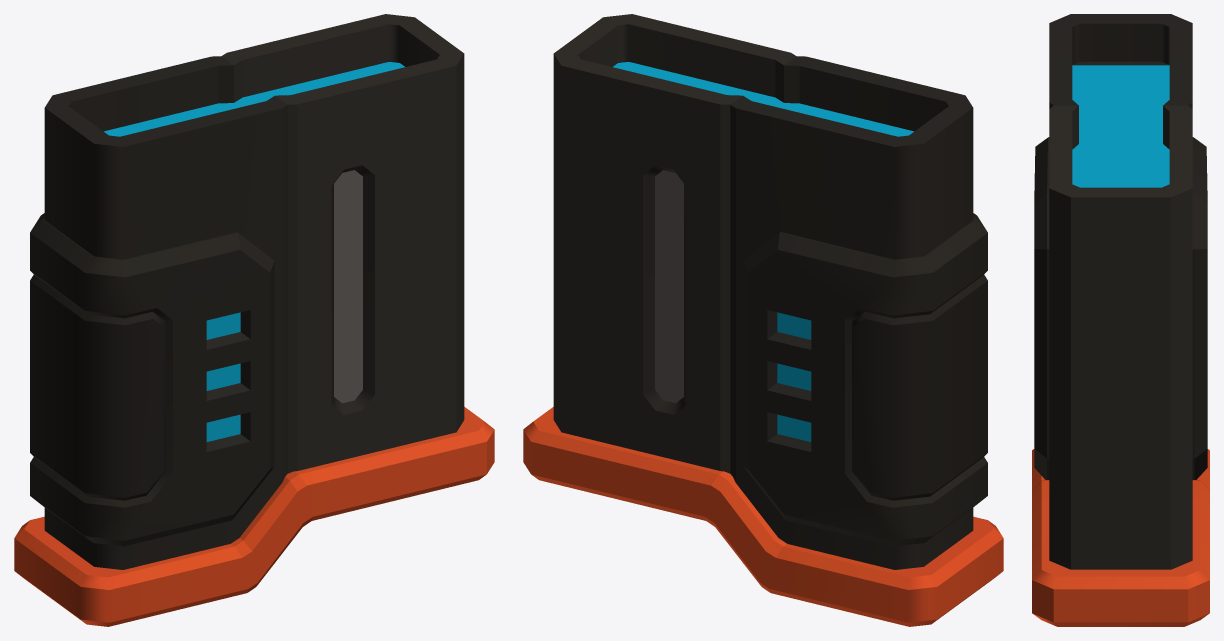
File: SMG12_Magazine.fbx
The picture shows the model from 3 angles, left to right: view 1: azimuth 30°, elevation 25°; view 2: azimuth 150°, elevation 25°; view 3: azimuth 270°, elevation 25°; orthographic projection.
Visible parts, largest first — view 1: SMG12_Magazine; view 2: SMG12_Magazine; view 3: SMG12_Magazine.
Boxes of the visible parts, bbox=[...] form: SMG12_Magazine: bbox=[14, 14, 494, 626]; SMG12_Magazine: bbox=[523, 14, 1003, 626]; SMG12_Magazine: bbox=[1032, 14, 1209, 626].
Bounding box in the file's own units: 8.05 × 8.78 × 2.95.
